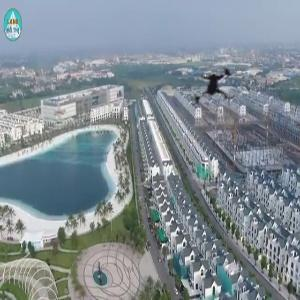drone: (169, 43, 262, 136)
